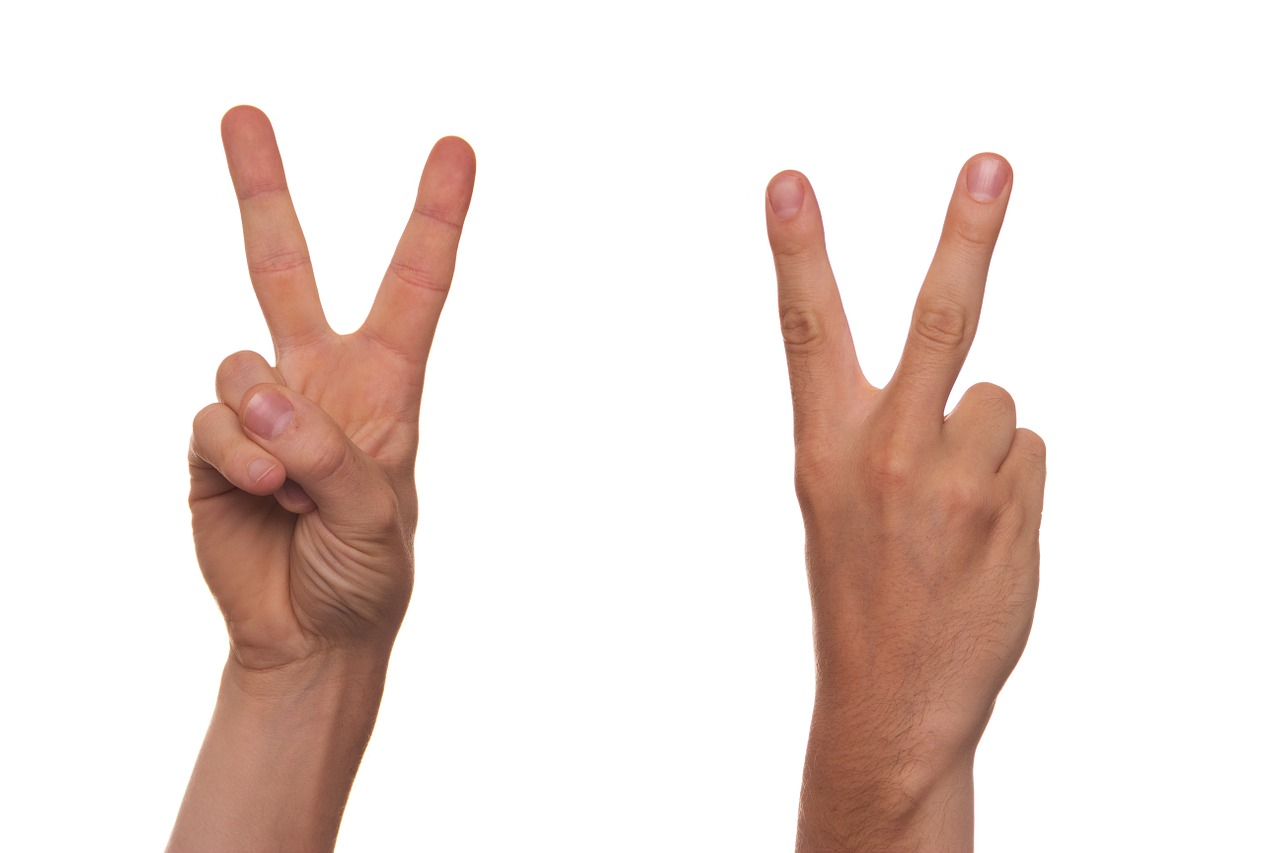peacesign: (207, 100, 507, 392), (744, 155, 1036, 449)
